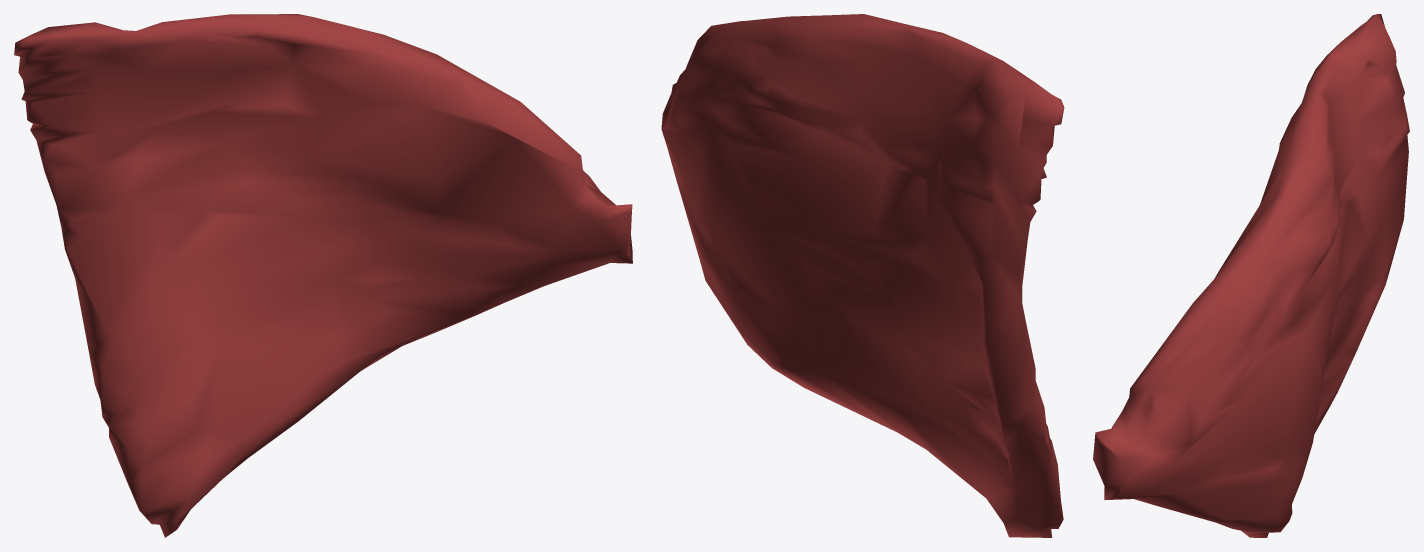
File: transverse-head-of-adductor-pollicis-l.glb
The picture shows the model from 3 angles, left to right: view 1: azimuth 30°, elevation 25°; view 2: azimuth 150°, elevation 25°; view 3: azimuth 270°, elevation 25°; orthographic projection. The views are drawn at different scales.
Visible parts, largest first — view 1: Transverse head of adductor pollicis.l; view 2: Transverse head of adductor pollicis.l; view 3: Transverse head of adductor pollicis.l.
Part boxes in pixels (<box>): Transverse head of adductor pollicis.l: <box>14,14,632,537</box>; Transverse head of adductor pollicis.l: <box>661,14,1064,537</box>; Transverse head of adductor pollicis.l: <box>1093,14,1409,537</box>.
Bounding box in the file's own units: 0.0427 × 0.0394 × 0.0233.
